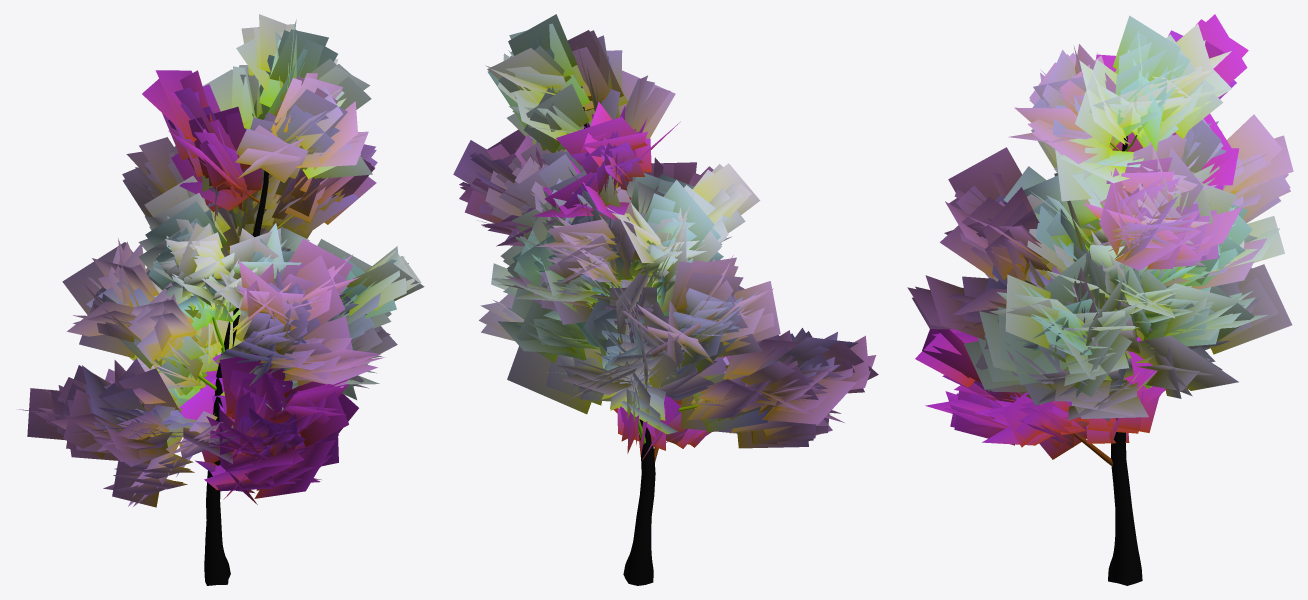
The model's file is tree_ginkgo_a.glb.
The picture shows the model from 3 angles, left to right: view 1: azimuth 30°, elevation 25°; view 2: azimuth 150°, elevation 25°; view 3: azimuth 270°, elevation 25°; orthographic projection. The views are drawn at different scales.
Parts seen in each view (by area): view 1: tree_ginkgo_a; view 2: tree_ginkgo_a; view 3: tree_ginkgo_a.
Boxes of the visible parts, x1,y1,x2,y2 form: tree_ginkgo_a: (17, 14, 424, 585); tree_ginkgo_a: (453, 14, 878, 585); tree_ginkgo_a: (907, 14, 1293, 585).
Size of the model in its own units: 10.63 by 15.04 by 8.63.
